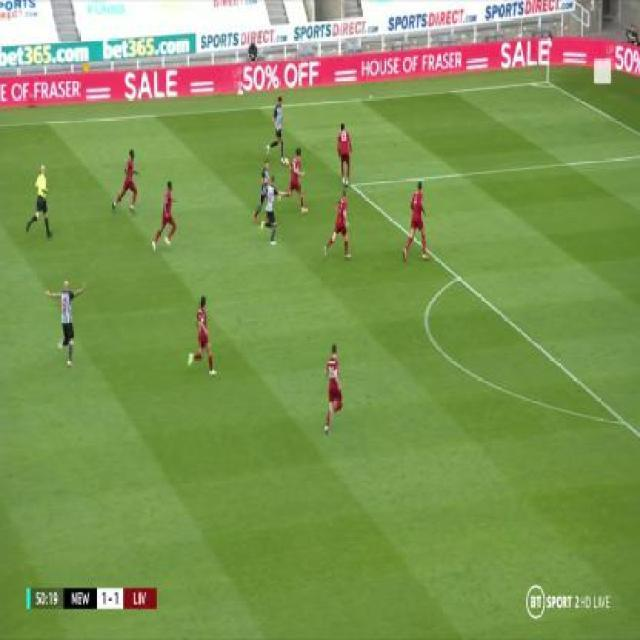ball: (282, 155, 290, 168)
player: (48, 278, 85, 366), (186, 293, 217, 378), (402, 180, 431, 266), (322, 340, 347, 437), (322, 188, 353, 262), (26, 164, 54, 243), (151, 179, 179, 253), (112, 150, 141, 216), (284, 147, 309, 215), (266, 92, 289, 163), (260, 173, 282, 247), (253, 161, 273, 227), (335, 122, 354, 190)
